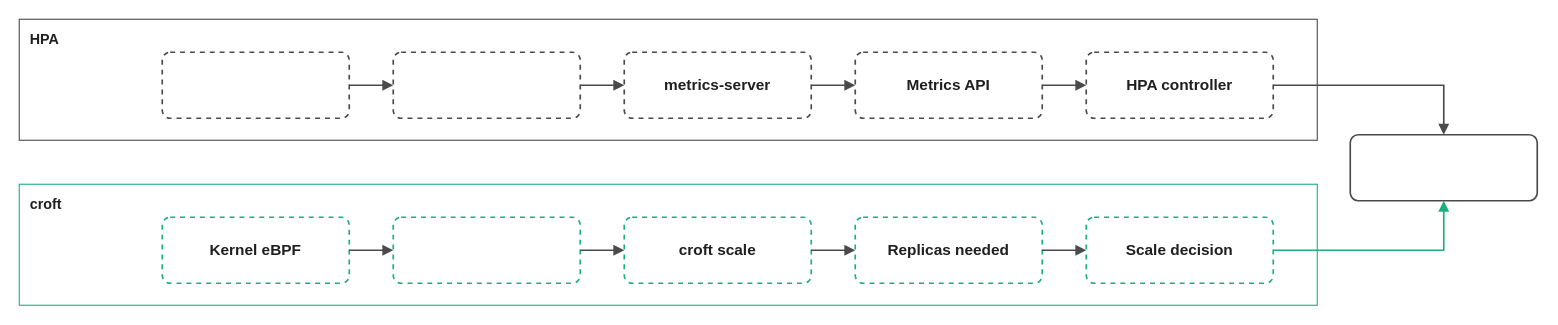
Some shapes in this 1558 by 325 pixel diagram are drawn without their labels. The shapes that lost their labels are listed below. From the top down, each one's centre as x and y in pixels, then its label:
the point at 255,85: Kernel cgroup
the point at 486,85: kubelet
the point at 1443,167: Deployment
the point at 486,250: croft-collector
